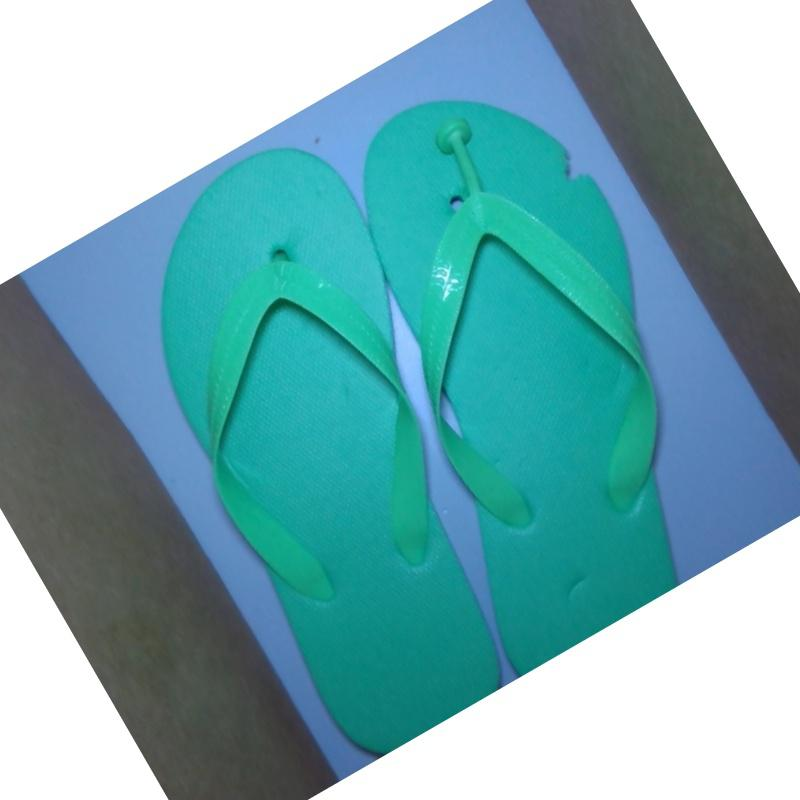chipped: (548, 137, 605, 199)
detached: (423, 108, 485, 175)
